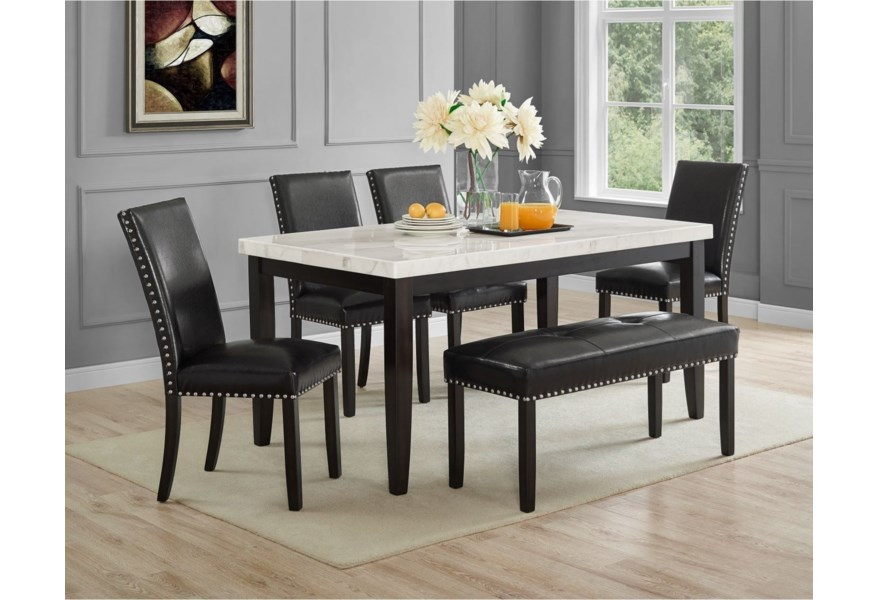seat: (103, 188, 362, 507), (421, 307, 770, 509), (627, 146, 807, 353), (267, 166, 396, 324), (373, 144, 476, 332)
table: (238, 203, 713, 482)
